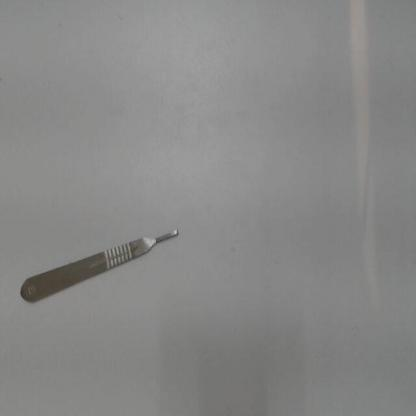No.3 BP Handle: (15, 219, 184, 318)
